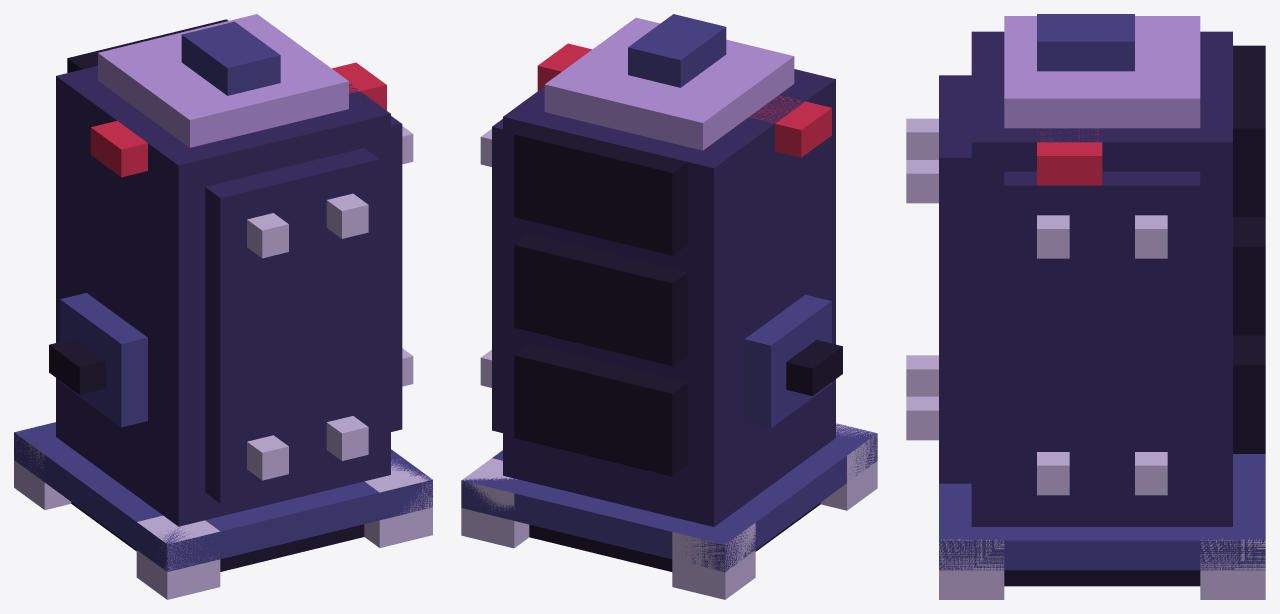
Rendered from computer-core.sm.glb.
The picture shows the model from 3 angles, left to right: view 1: azimuth 30°, elevation 25°; view 2: azimuth 150°, elevation 25°; view 3: azimuth 270°, elevation 25°; orthographic projection. The views are drawn at different scales.
Parts seen in each view (by area): view 1: computer-core.sm; view 2: computer-core.sm; view 3: computer-core.sm.
Part boxes in pixels (x1,y1,x2,y2): computer-core.sm: (14, 14, 432, 599); computer-core.sm: (461, 14, 877, 599); computer-core.sm: (906, 14, 1265, 599).
Bounding box in the file's own units: 0.75 × 1.06 × 0.6875.
